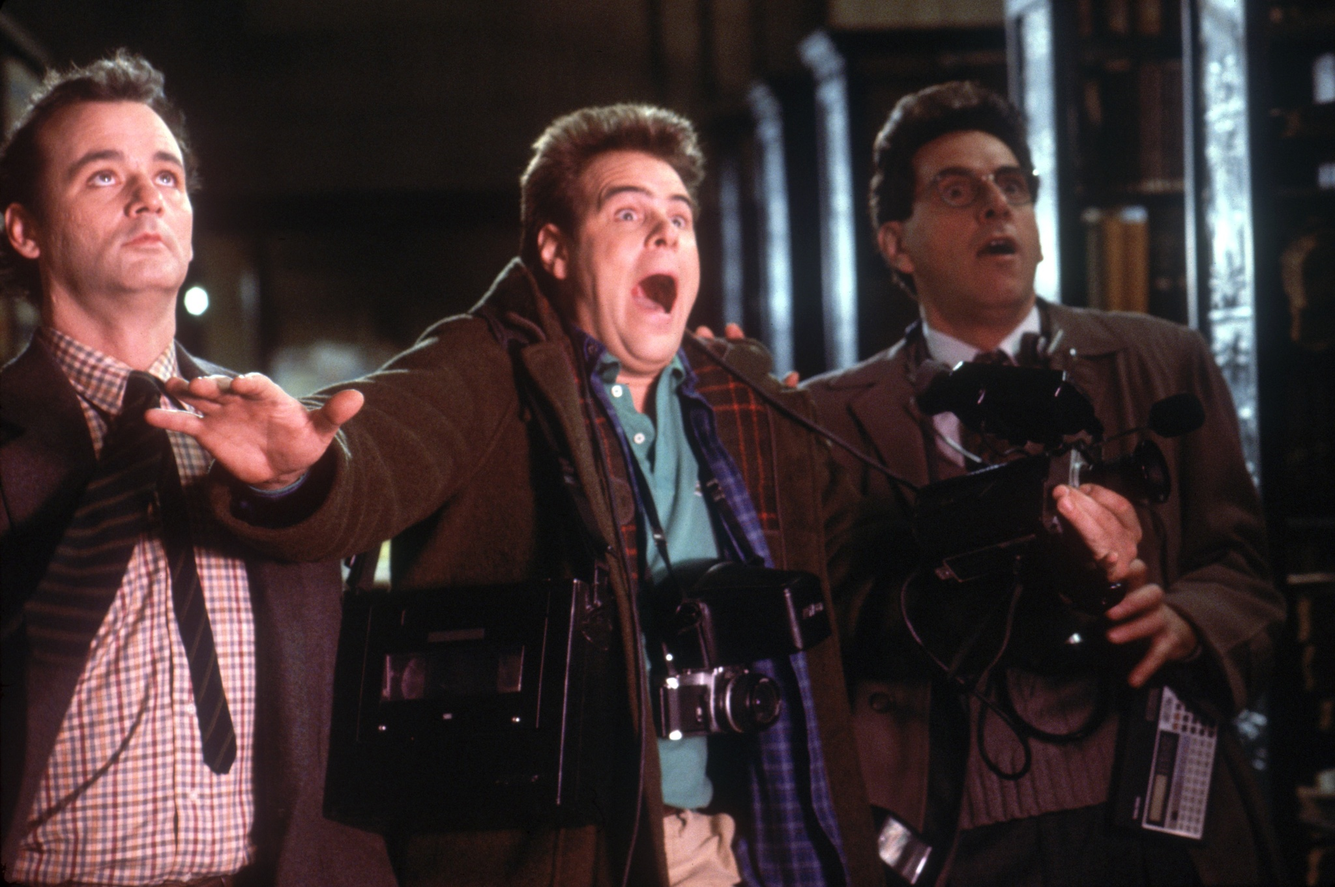30: (890, 101, 1056, 330)
31: (19, 72, 213, 320)
42: (547, 111, 721, 391)
Bag: (321, 576, 604, 834)
Coat: (211, 257, 881, 880), (789, 297, 1293, 885), (2, 316, 394, 887)
Glasses: (871, 163, 1045, 223)
Male: (547, 111, 721, 391), (19, 72, 213, 320), (890, 101, 1056, 330)
Shirt: (12, 319, 263, 887), (566, 330, 743, 813)
Tie: (16, 369, 242, 793)
